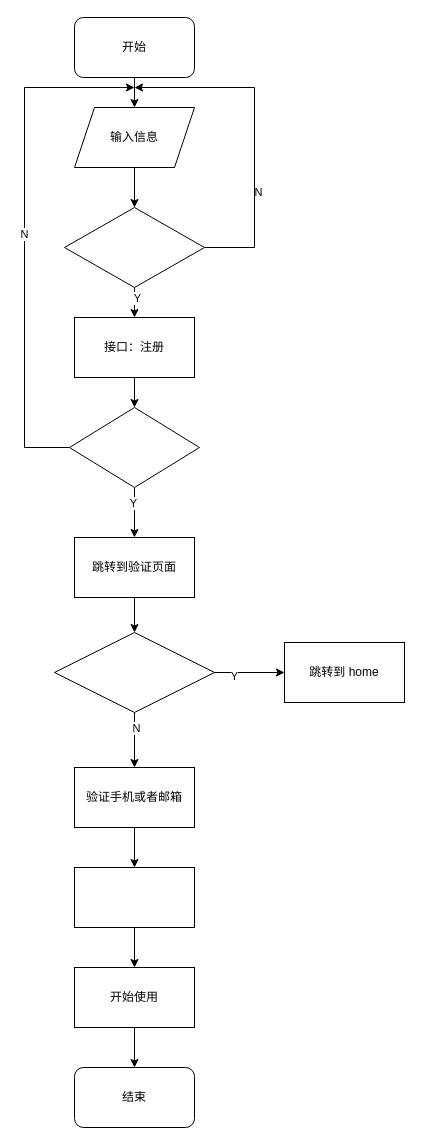
Some shapes in this 422 by 1145 pixel diagram are drawn without their labels. Each missing label, with the box of its shape:
是否退出？: (54, 632, 214, 712)
是否验证成功？: (64, 206, 204, 288)
注册成功？: (68, 406, 200, 488)
验证成功: (74, 866, 194, 928)
